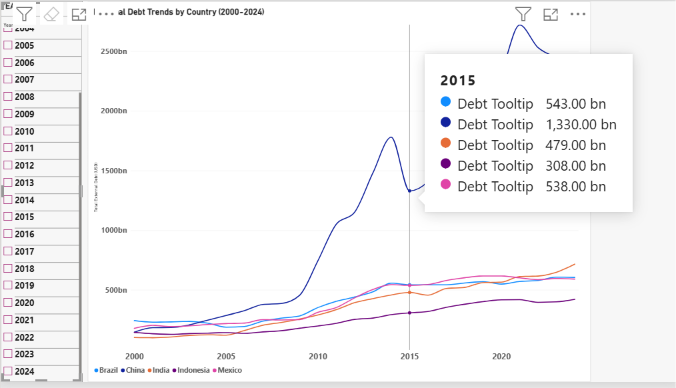

Layout of this report page (visuals, bound fields, positions):
{"tool":"powerbi","page":{"name":"Debt  Trends Analysis","canvas":[1920,1080],"ordinal":1},"visuals":[{"type":"lineChart","fields":{"Category":["international_debt_cleaned.Year"],"Series":["international_debt_cleaned.Country Name"],"Y":["Sum(international_debt_cleaned.Total_Debt)"]},"box":[247.2,0,1425,1080.6],"z":0},{"type":"slicer","title":"YEAR","fields":{"Values":["international_debt_cleaned.Year"]},"box":[0,0,230,1080],"z":1}]}

Visuals, with their boxes on the page's 1920x1080 design canvas (x1, y1, x2, y2). These are canvas units, not pixel positions in the 676x388 screenshot, which may show the page scaled, cropped or inside an application window:
lineChart - international_debt_cleaned.Year x international_debt_cleaned.Country Name: <region>247, 0, 1672, 1081</region>
"YEAR" slicer: <region>0, 0, 230, 1080</region>
